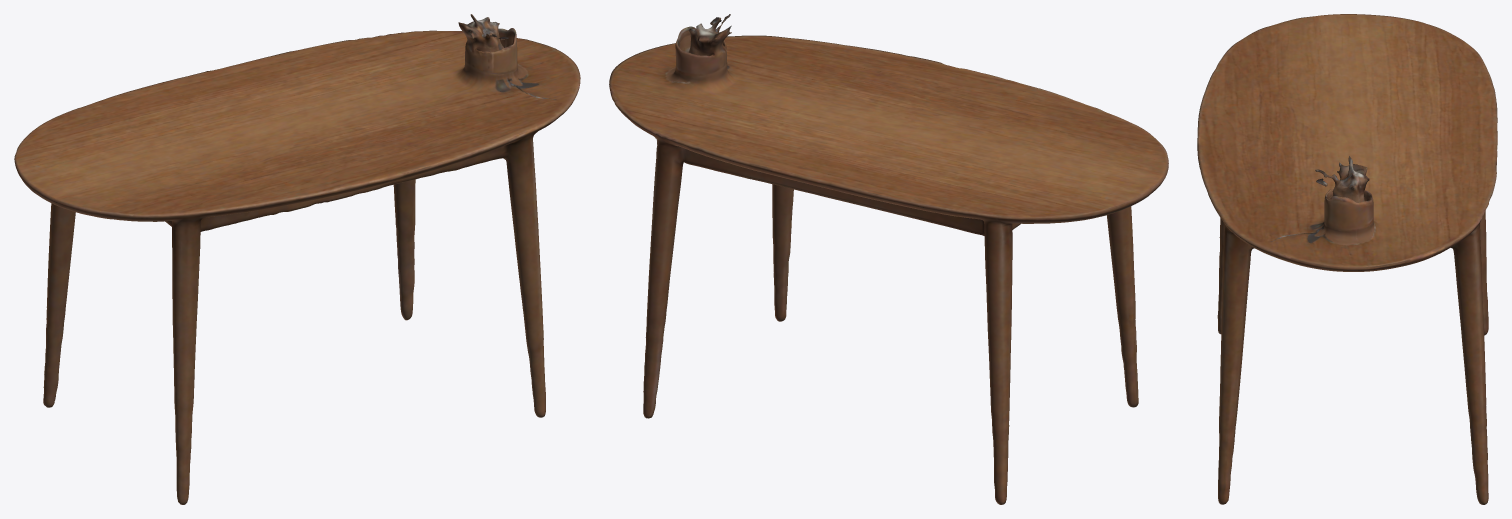
3 views of the same model, side by side, from view 1: azimuth 30°, elevation 25°; view 2: azimuth 150°, elevation 25°; view 3: azimuth 270°, elevation 25° (orthographic). The views are drawn at different scales.
Size of the model in its own units: 2 by 1.28 by 1.
1 material, 1 textured.
